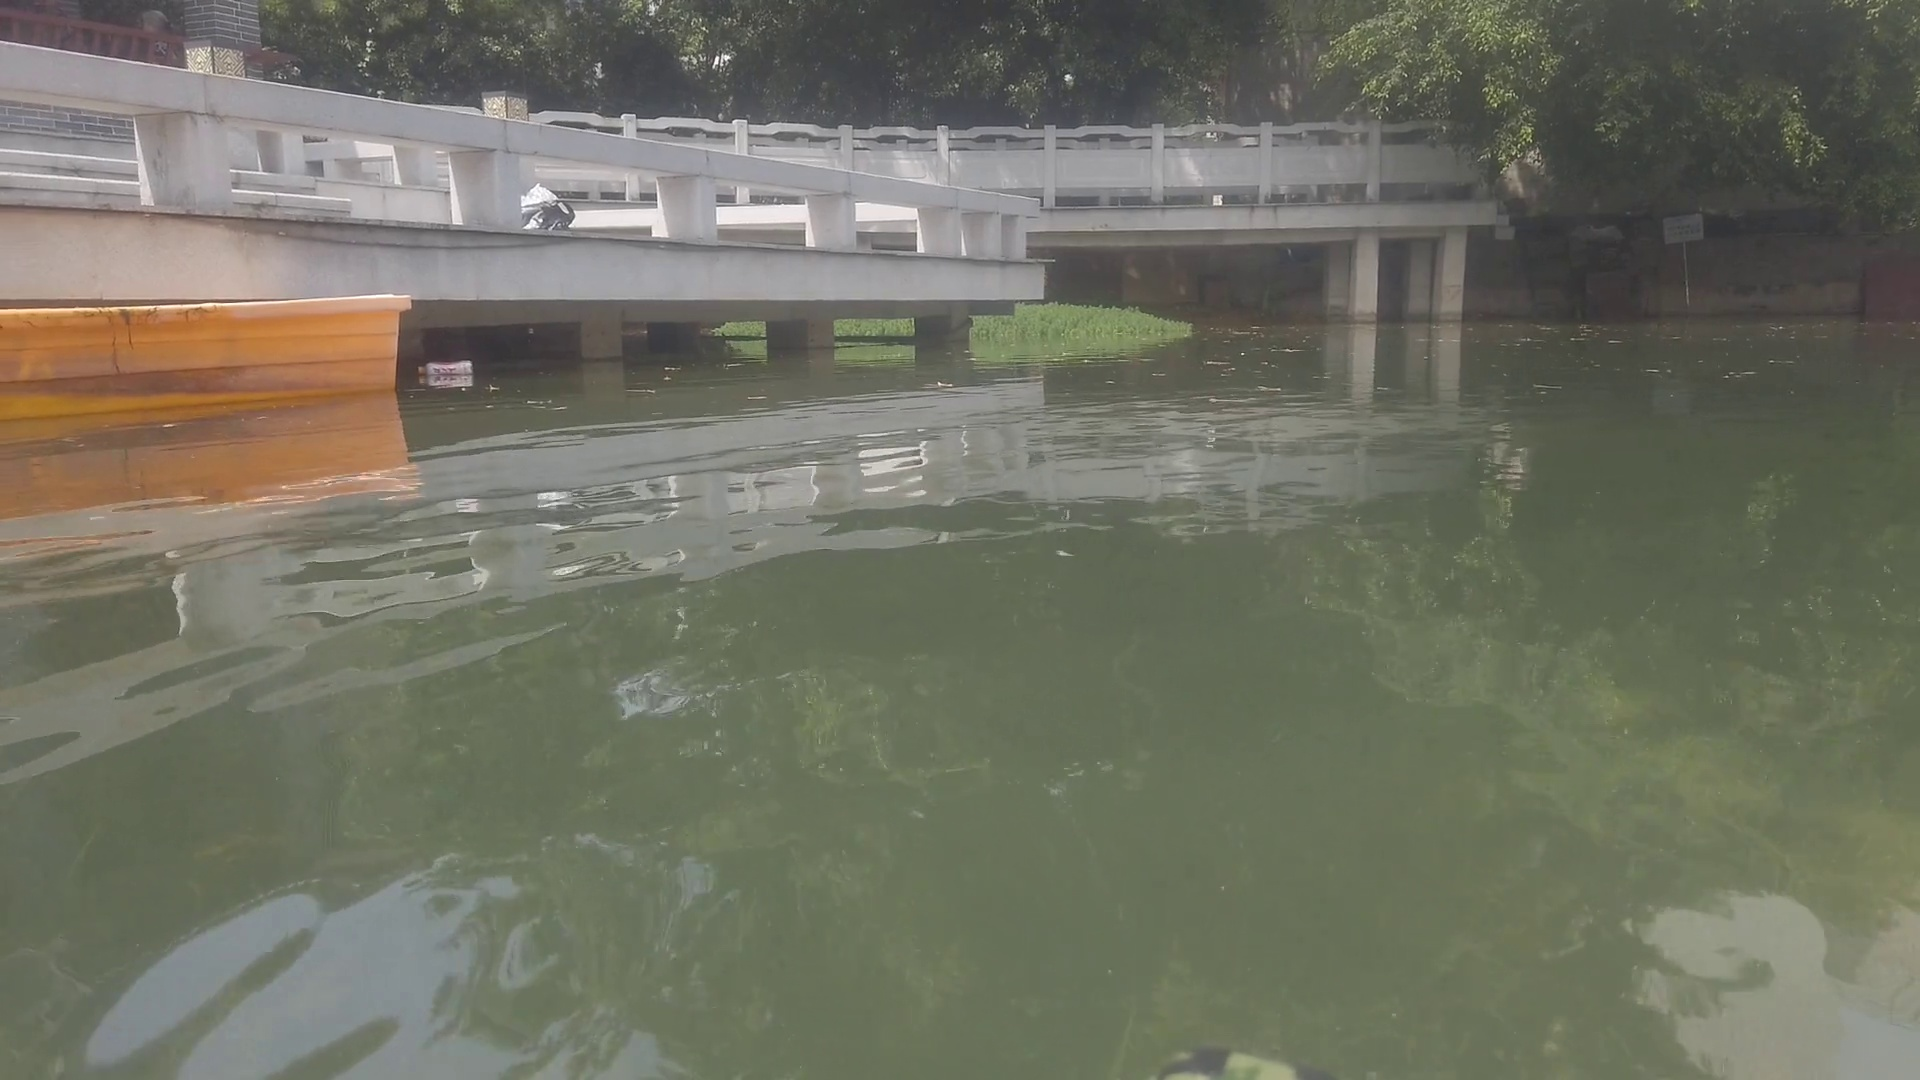bottle: (414, 360, 473, 376)
